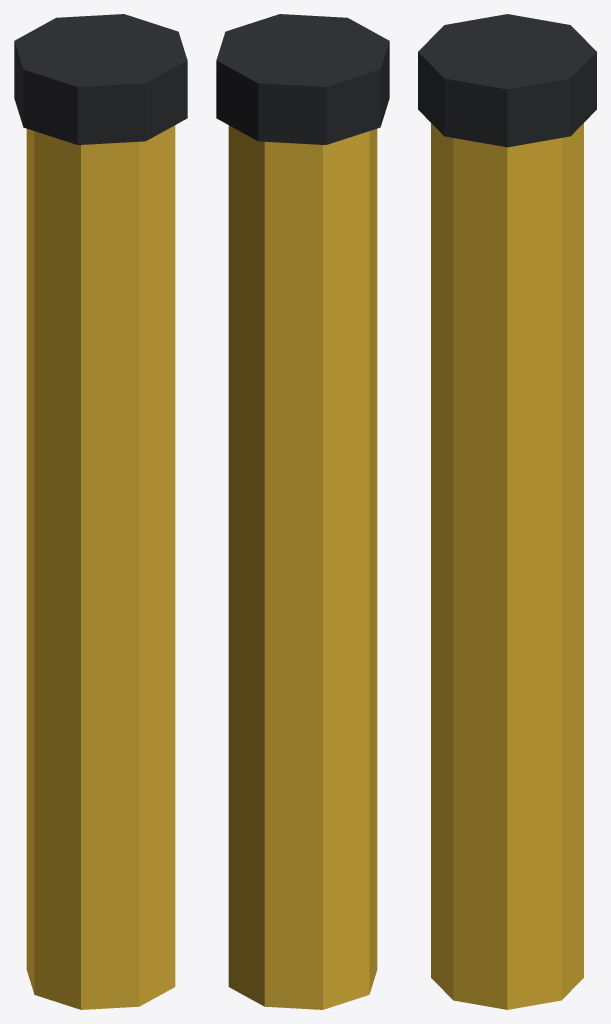
The model's file is prop.bollard.glb.
3 renders of one model, left to right at view 1: azimuth 30°, elevation 25°; view 2: azimuth 150°, elevation 25°; view 3: azimuth 270°, elevation 25°, orthographic.
Visible parts, largest first — view 1: prop.bollard; view 2: prop.bollard; view 3: prop.bollard.
Boxes of the visible parts, x1=… form: prop.bollard: x1=14, y1=14, x2=187, y2=1009; prop.bollard: x1=216, y1=14, x2=389, y2=1009; prop.bollard: x1=418, y1=14, x2=596, y2=1009.
Bounding box in the file's own units: 0.14 × 0.8 × 0.14.
